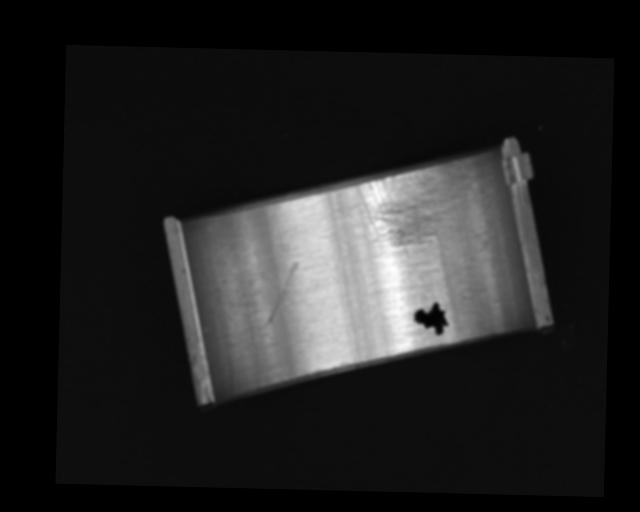blot: (413, 301, 449, 337)
nick: (333, 245, 359, 364), (263, 259, 299, 330)
scratch: (354, 155, 469, 259)
